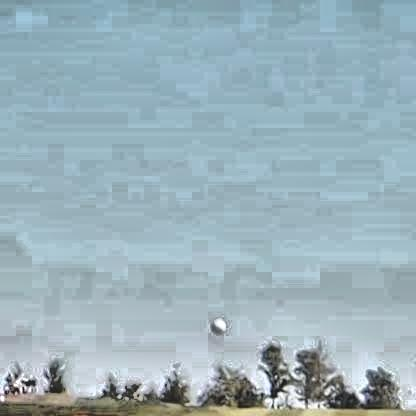golfball: (207, 314, 223, 333)
